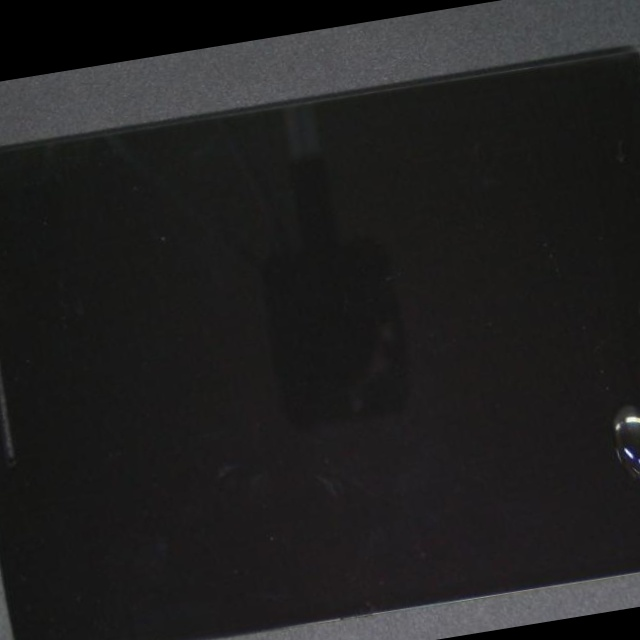oil: (230, 187, 640, 640)
